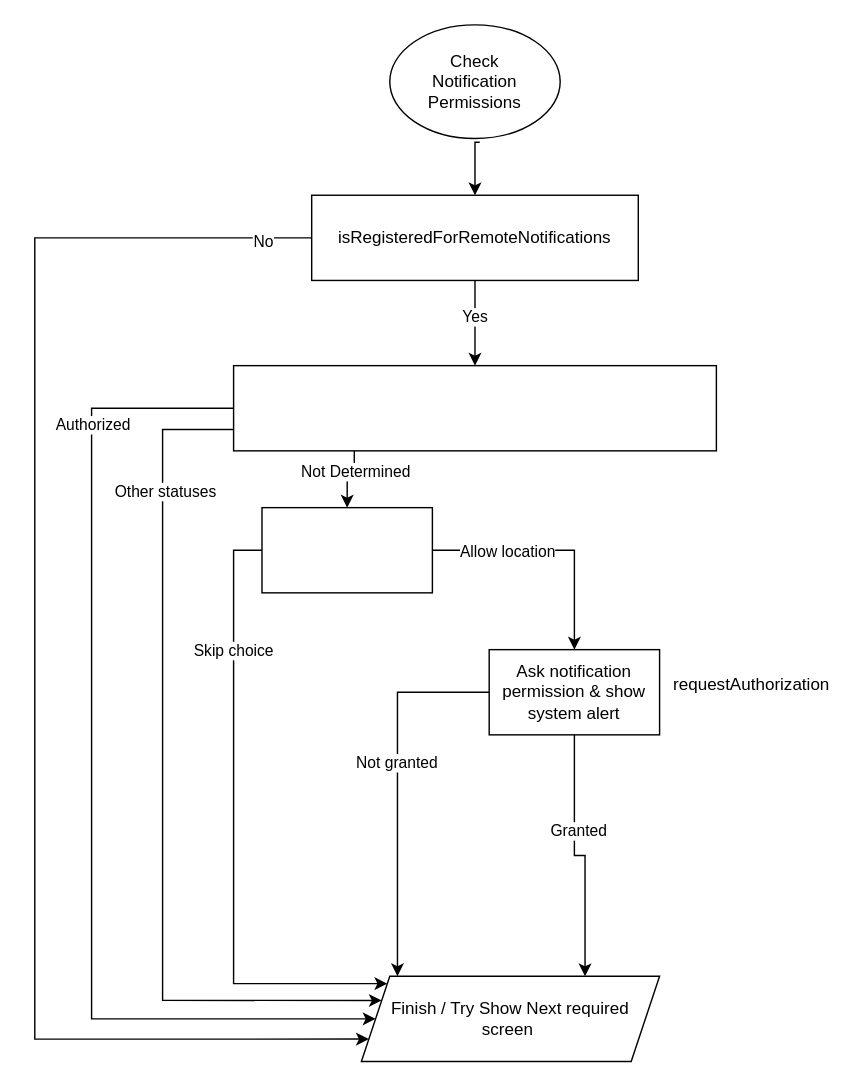
Some shapes in this 855 by 1086 pixel diagram are drawn without their labels. The centre of each missing label's shape, as x and y in pixels:
Show Custom Ask Permission Screen: point (346, 549)
UNUserNotificationCenter.current().getNotificationSettings authorizationStatus: point (474, 407)
